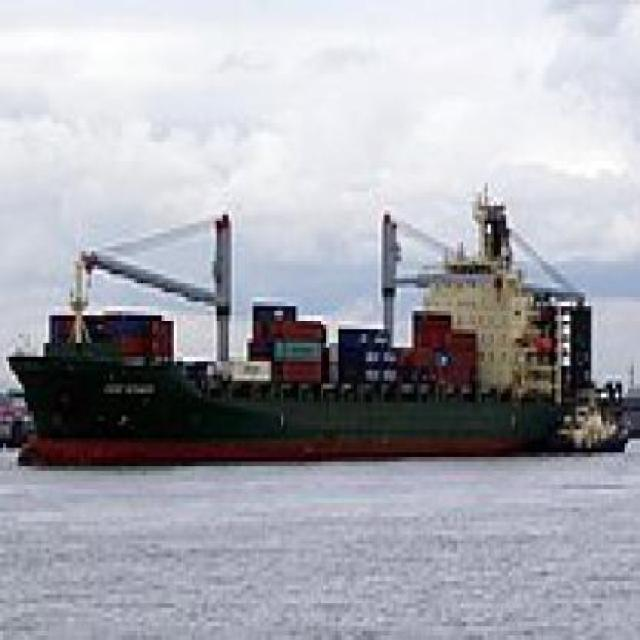container: (6, 202, 599, 477)
